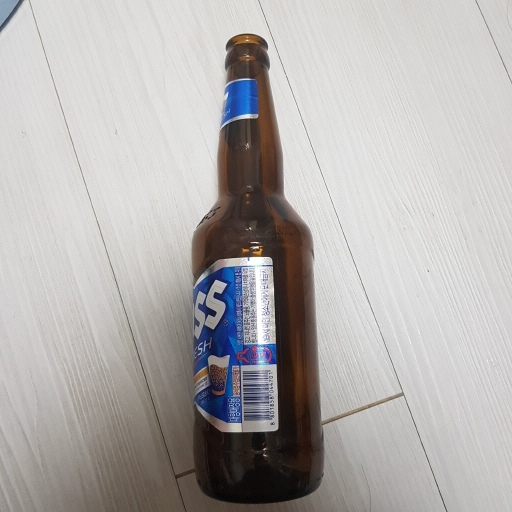Glass_1: (186, 29, 333, 502)
